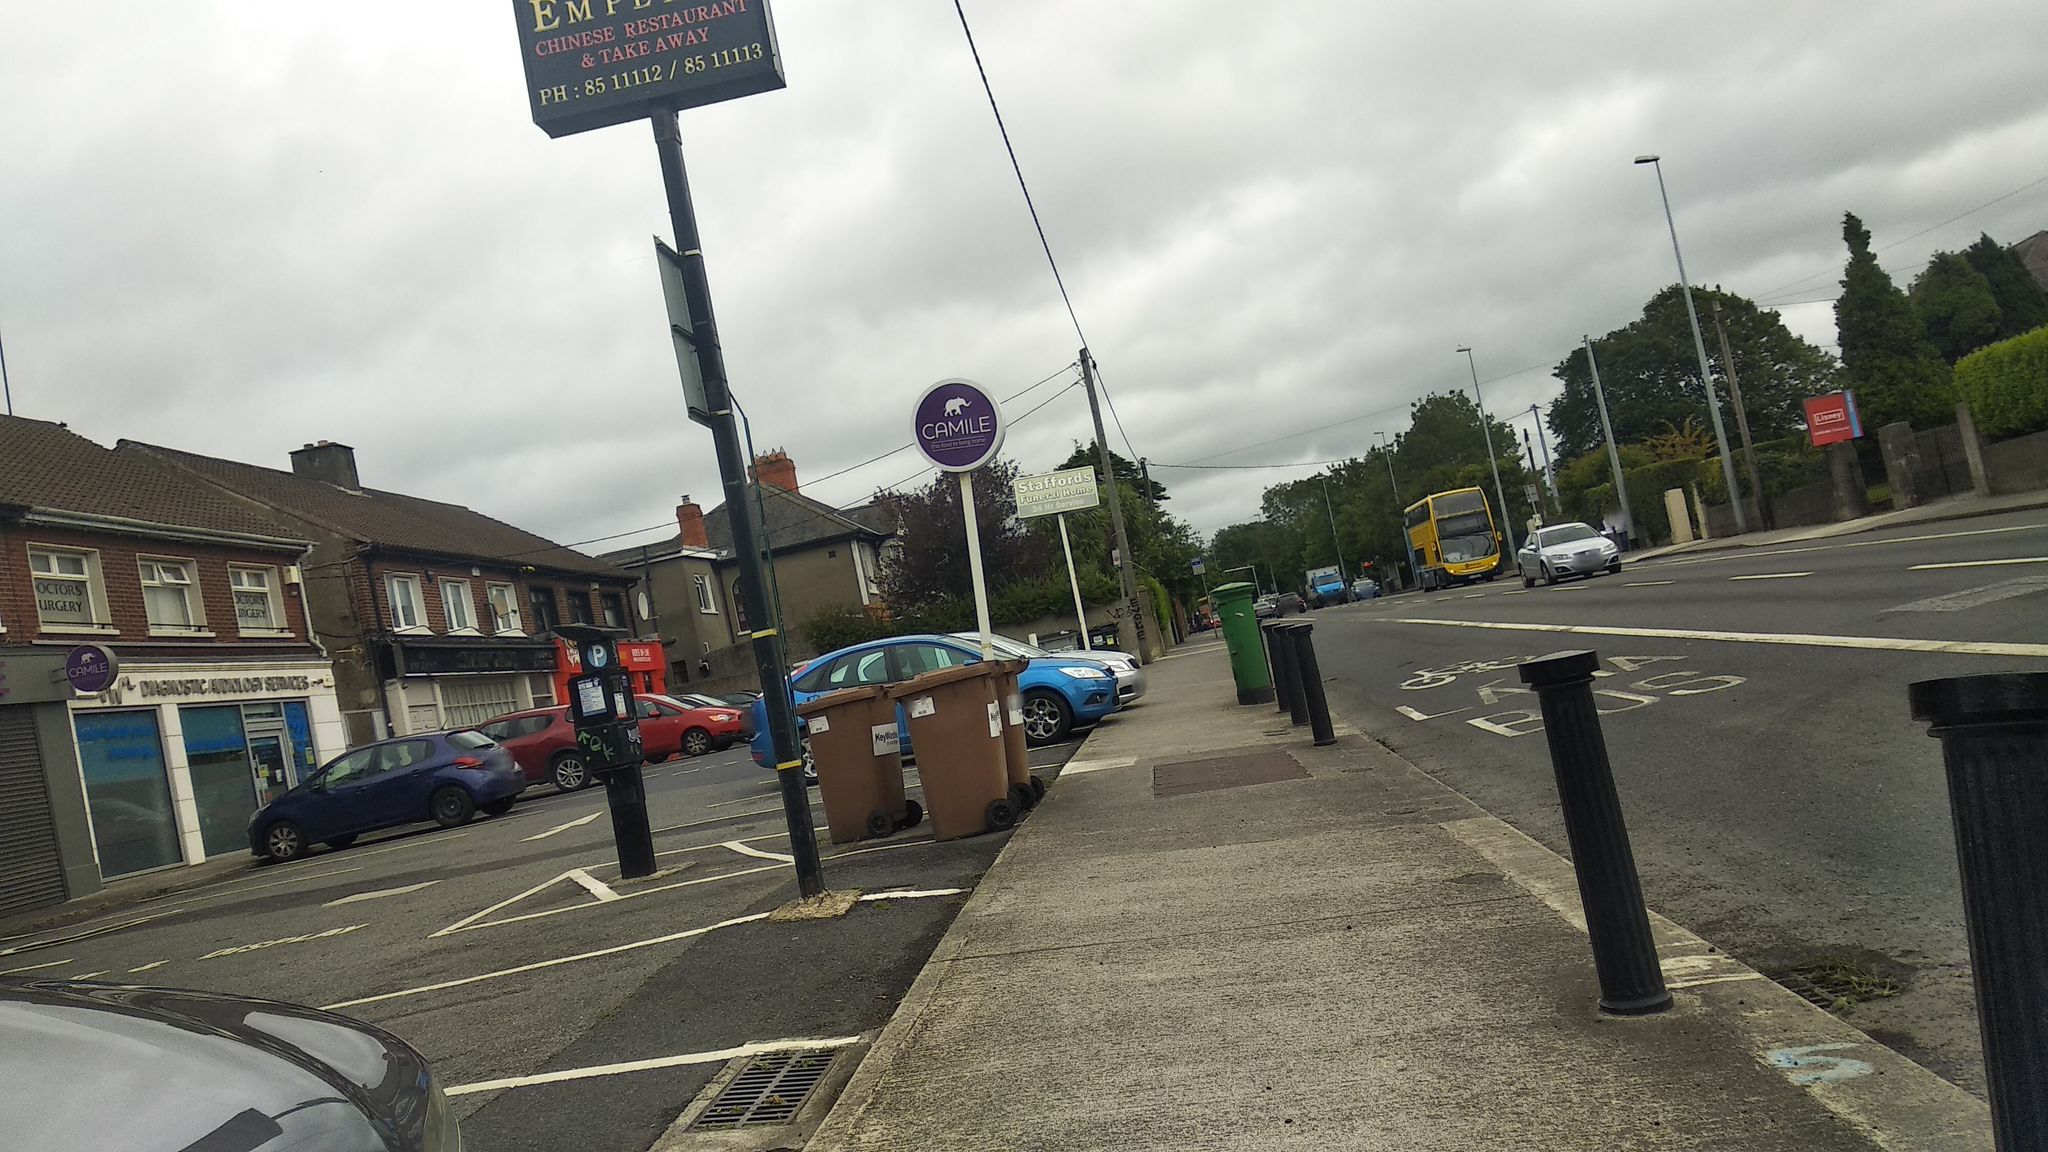property sign: (1788, 367, 1869, 452)
